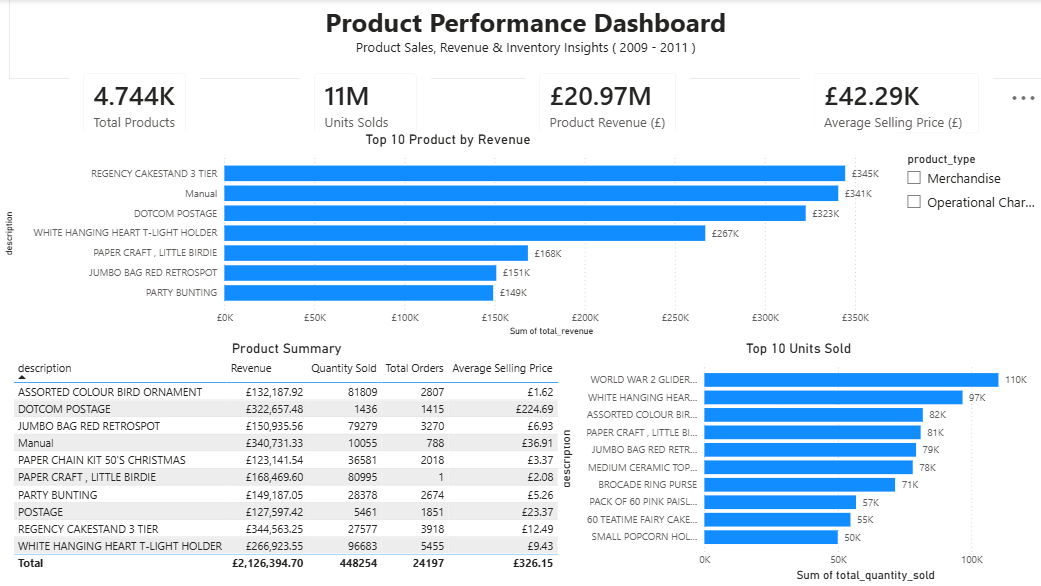

The page's visual inventory and layout, read from the dashboard file:
{"tool":"powerbi","page":{"name":"Page 3","canvas":[1280,720],"ordinal":2},"visuals":[{"type":"textbox","box":[10.6,0,1268.9,87.8],"z":0},{"type":"cardVisual","fields":{"Data":["Count(dashboard_product_performance.stockcode)"]},"box":[85.4,73.2,160.4,108.1],"z":1000},{"type":"cardVisual","fields":{"Data":["Sum(dashboard_product_performance.total_quantity_sold)"]},"box":[367.8,73.2,160.4,108.1],"z":2000},{"type":"cardVisual","fields":{"Data":["Sum(dashboard_product_performance.total_revenue)"]},"box":[644.9,73.2,202.2,108.1],"z":3000},{"type":"cardVisual","fields":{"Data":["Sum(dashboard_product_performance.weighted_average_selling_price)"]},"box":[981.4,73.2,237.1,108.1],"z":4000},{"type":"clusteredBarChart","title":"Top 10 Product by Revenue","fields":{"Category":["dashboard_product_performance.description"],"Y":["Sum(dashboard_product_performance.total_revenue)"]},"box":[0,162.1,1099.9,256.2],"z":5000},{"type":"clusteredBarChart","title":"Top 10 Units Sold","fields":{"Category":["dashboard_product_performance.description"],"Y":["Sum(dashboard_product_performance.total_quantity_sold)"]},"box":[681.5,418.3,597.9,301.6],"z":6000},{"type":"tableEx","title":"Product Summary","fields":{"Values":["dashboard_product_performance.description","Sum(dashboard_product_performance.total_revenue)","Sum(dashboard_product_performance.total_quantity_sold)","Sum(dashboard_product_performance.total_orders)","Sum(dashboard_product_performance.weighted_average_selling_price)"]},"box":[10.5,418.3,681.5,301.6],"z":7000},{"type":"slicer","fields":{"Values":["dashboard_product_performance.product_type"]},"box":[1100,181.7,178.3,123.3],"z":8000}]}

Visuals, with their boxes in screenshot pixels (x1, y1, x2, y2), scaled from the page's 1280x720 canvas onto the 1041x586 screenshot:
textbox: {"left": 9, "top": 0, "right": 1040, "bottom": 71}
cardVisual - Count(dashboard_product_performance.stockcode): {"left": 69, "top": 60, "right": 200, "bottom": 148}
cardVisual - Sum(dashboard_product_performance.total_quantity_sold): {"left": 299, "top": 60, "right": 430, "bottom": 148}
cardVisual - Sum(dashboard_product_performance.total_revenue): {"left": 524, "top": 60, "right": 689, "bottom": 148}
cardVisual - Sum(dashboard_product_performance.weighted_average_selling_price): {"left": 798, "top": 60, "right": 991, "bottom": 148}
"Top 10 Product by Revenue" clusteredBarChart: {"left": 0, "top": 132, "right": 895, "bottom": 340}
"Top 10 Units Sold" clusteredBarChart: {"left": 554, "top": 340, "right": 1040, "bottom": 585}
"Product Summary" tableEx: {"left": 9, "top": 340, "right": 563, "bottom": 585}
slicer - dashboard_product_performance.product_type: {"left": 895, "top": 148, "right": 1040, "bottom": 248}
